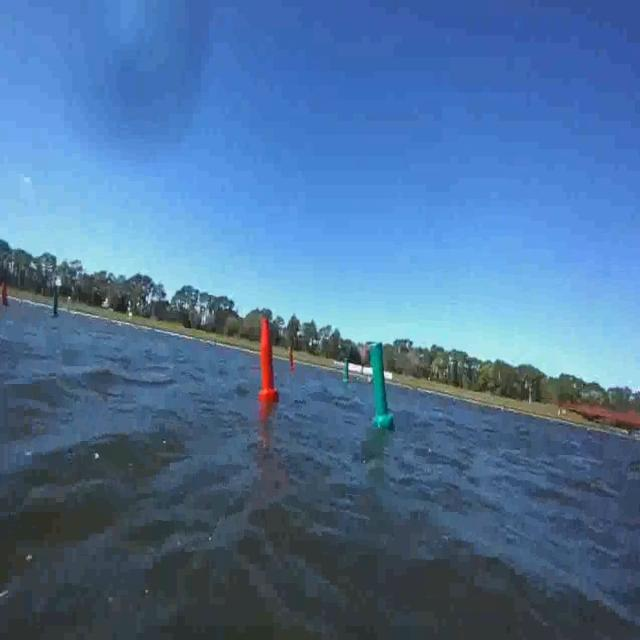green-column-buoy: (370, 343, 394, 428), (52, 284, 63, 318), (344, 359, 351, 385)
red-column-buoy: (259, 314, 280, 402), (1, 278, 10, 308), (288, 346, 295, 371)
